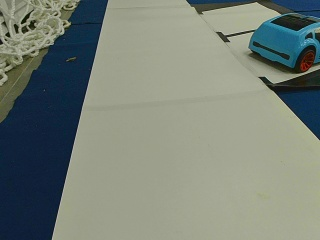car: (249, 13, 318, 72)
